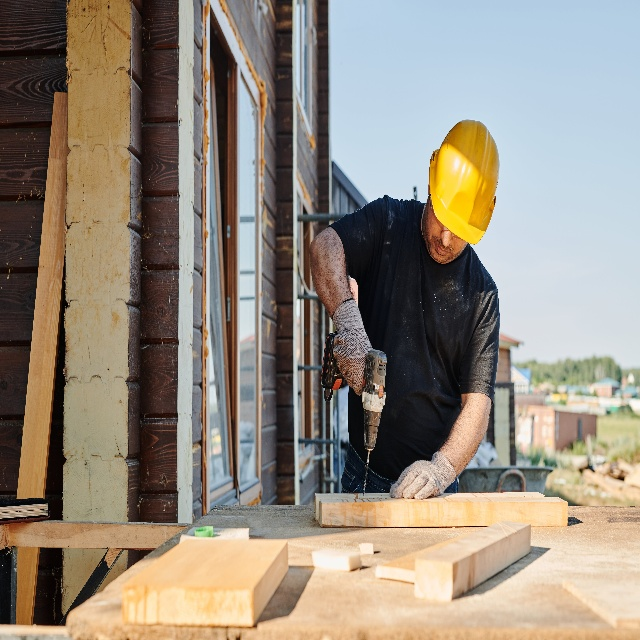Guantes: (332, 303, 372, 397), (390, 447, 455, 501)
